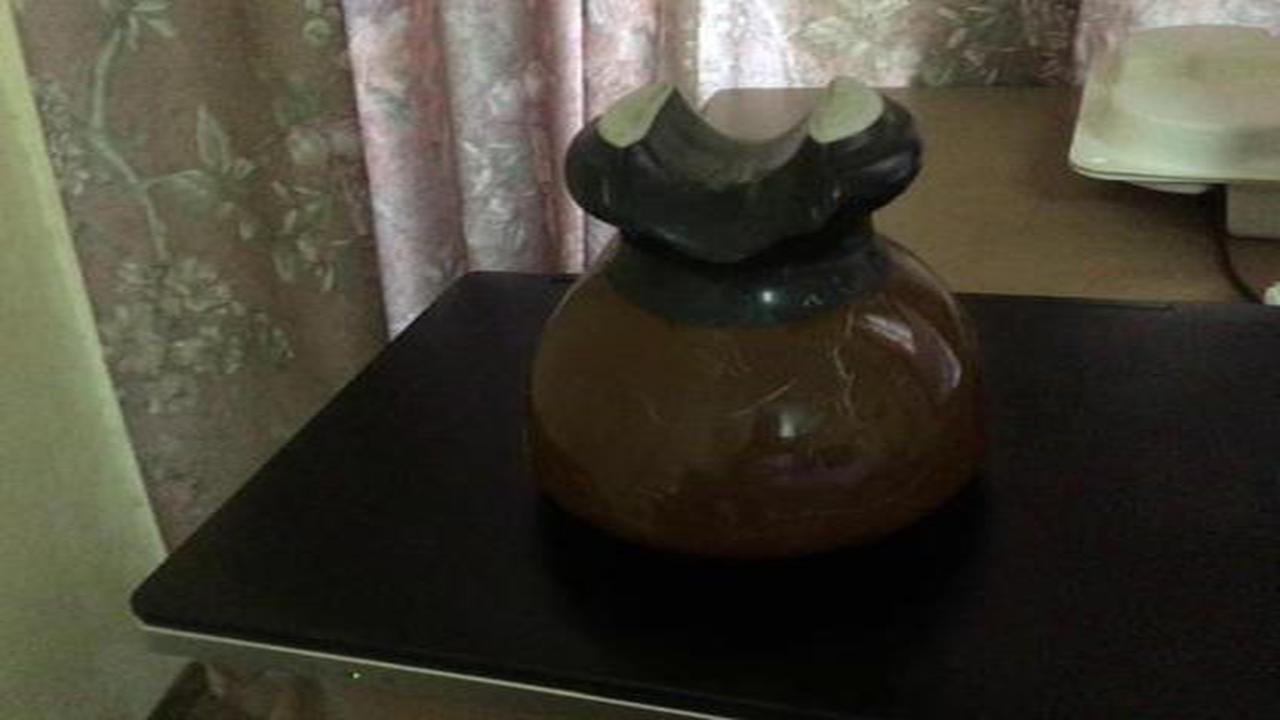insulator_pin: (521, 58, 1007, 575)
